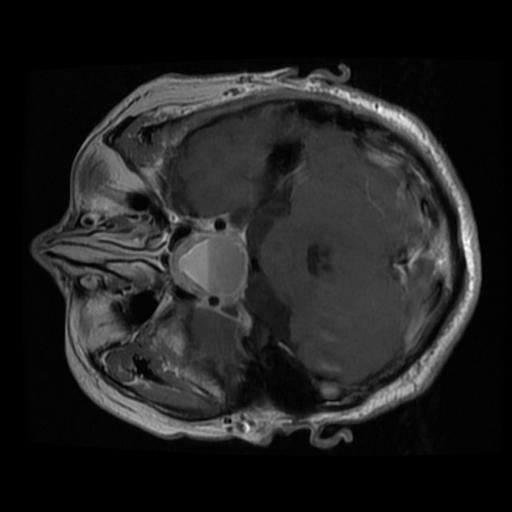pituitary tumour: (167, 229, 249, 306)
